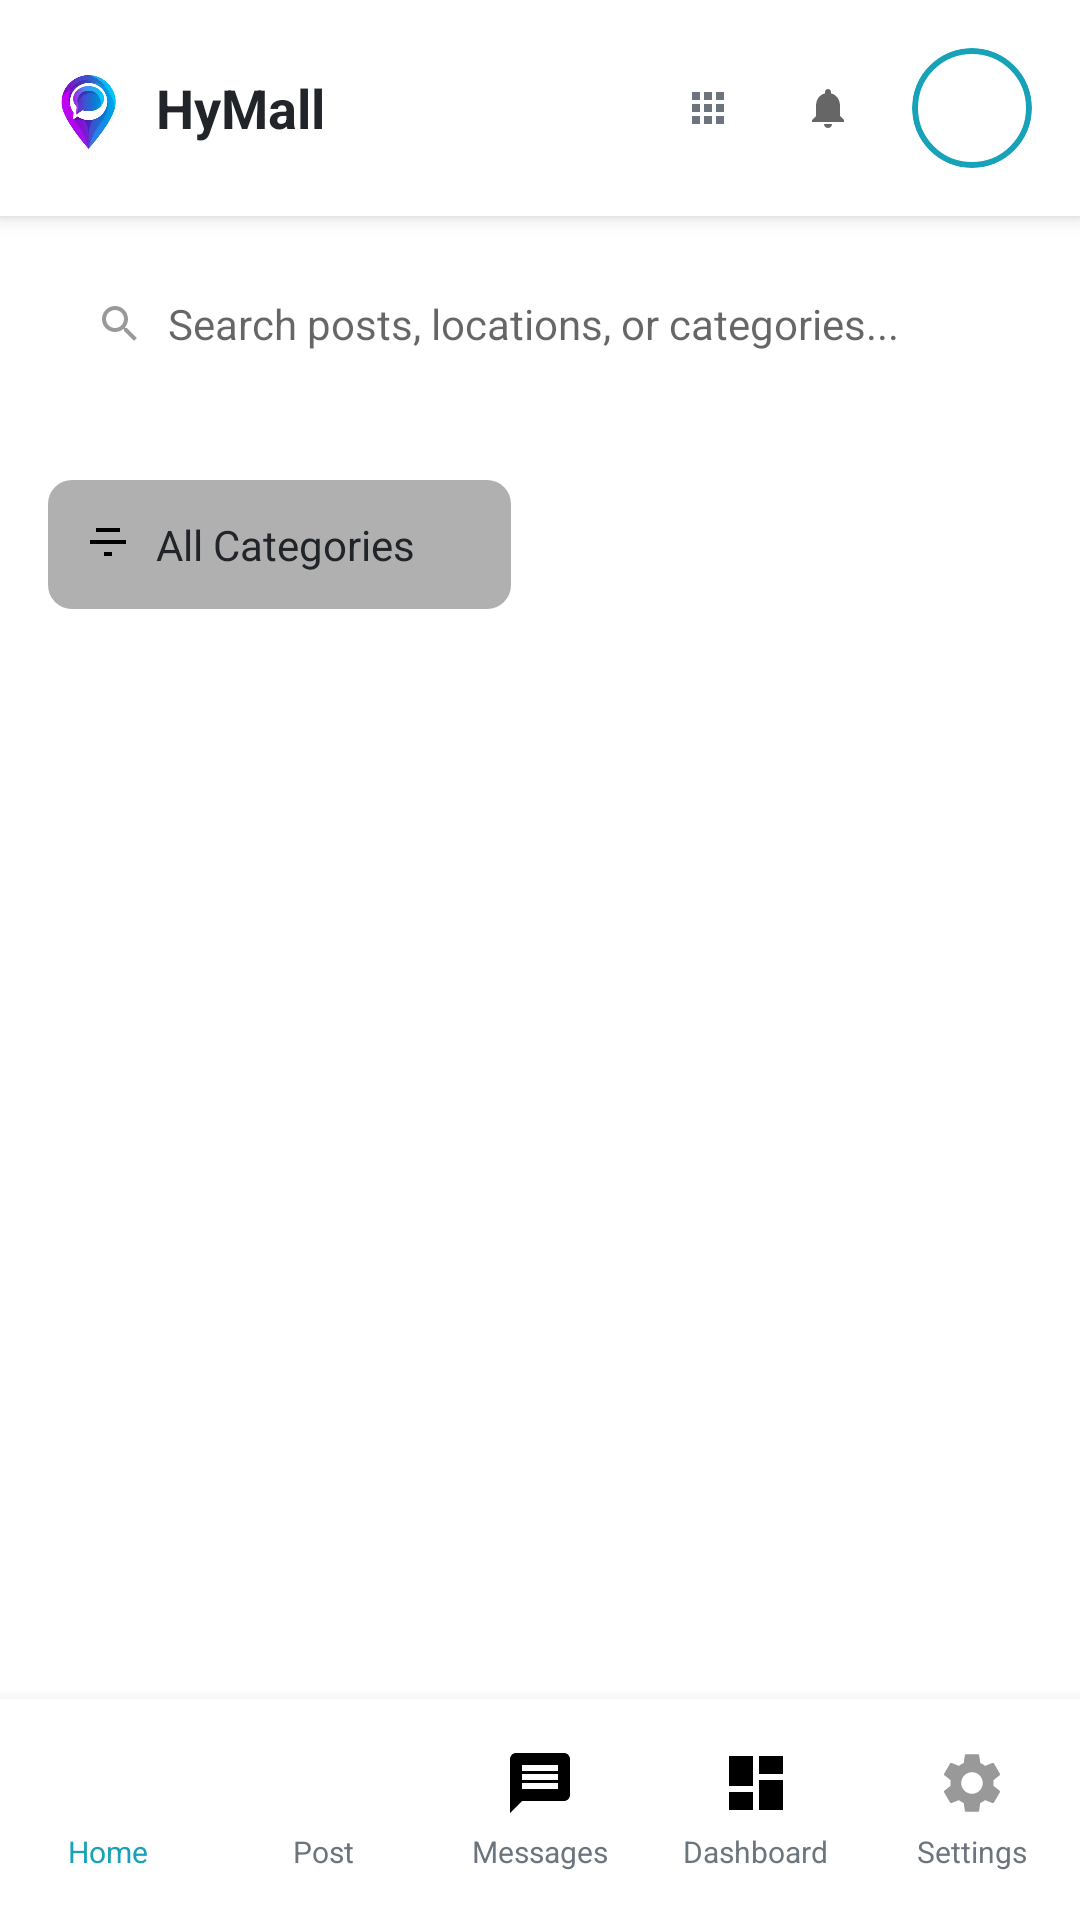

Icon bounding boxes for this 1080px x 1920px phone screenshot, format (x1, y1, x2, y2):
filter: (90, 528, 126, 556)
grid apps: (692, 92, 724, 124)
notifications: (812, 89, 844, 128)
